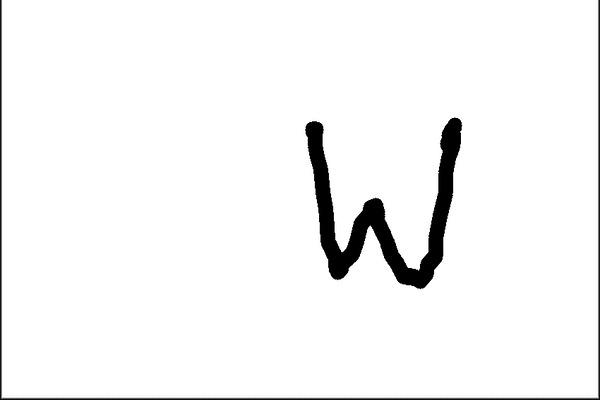w: (274, 114, 475, 295)
